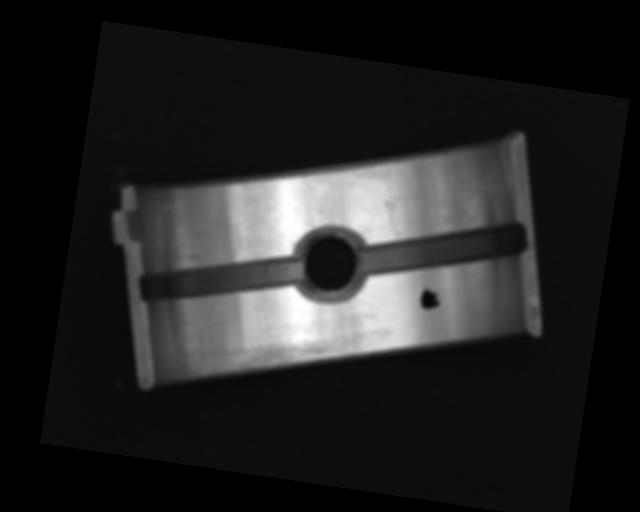blot: (417, 283, 443, 312)
bruise: (211, 217, 231, 227), (159, 202, 173, 214)
gap: (359, 202, 527, 297), (136, 237, 305, 323)
hole: (289, 224, 369, 307)
nick: (377, 187, 407, 240)
scratch: (195, 322, 348, 396)
